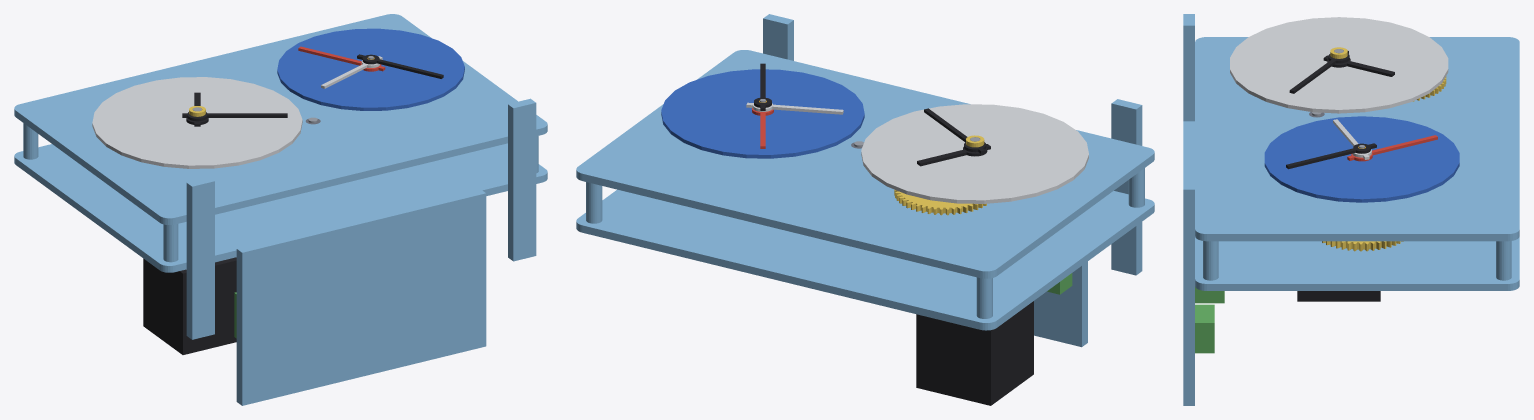
Rendered from test_rig.dae.
The picture shows the model from 3 angles, left to right: view 1: azimuth 30°, elevation 25°; view 2: azimuth 150°, elevation 25°; view 3: azimuth 270°, elevation 25°; orthographic projection. The views are drawn at different scales.
Visible parts, largest first — view 1: electronics_tray, front_plate, back_plate, dial_12h, dial_24h, motor_nema17, foot_0, foot_1, pillar_0, hand_minute, arm_shadow, pillar_1; view 2: front_plate, back_plate, dial_12h, dial_24h, motor_nema17, electronics_tray, foot_0, foot_1, minute_wheel_48_15, pillar_1, pillar_3, pillar_0 (+1 smaller); view 3: front_plate, dial_12h, back_plate, dial_24h, foot_1, electronics_tray, foot_0, buck_24_5, motor_nema17, pillar_3, pillar_2, shadow_wheel_48_C (+6 smaller).
Boxes of the visible parts, x1,y1,x2,y2 form: electronics_tray: [236, 189, 486, 405]; front_plate: [14, 14, 547, 224]; back_plate: [14, 143, 547, 272]; dial_12h: [92, 77, 302, 168]; dial_24h: [277, 28, 464, 110]; motor_nema17: [143, 257, 236, 354]; foot_0: [186, 177, 214, 339]; foot_1: [508, 98, 536, 261]; pillar_0: [163, 224, 178, 262]; hand_minute: [182, 112, 287, 121]; arm_shadow: [357, 54, 443, 78]; pillar_1: [23, 123, 38, 159]; front_plate: [576, 50, 1154, 278]; back_plate: [576, 189, 1154, 330]; dial_12h: [861, 104, 1088, 203]; dial_24h: [661, 69, 864, 158]; motor_nema17: [916, 301, 1033, 405]; electronics_tray: [1034, 261, 1087, 347]; foot_0: [1111, 99, 1142, 275]; foot_1: [763, 14, 793, 60]; minute_wheel_48_15: [894, 189, 986, 215]; pillar_1: [976, 277, 992, 318]; pillar_3: [586, 182, 602, 223]; pillar_0: [1128, 168, 1144, 207]; front_plate: [1195, 37, 1519, 241]; dial_12h: [1230, 17, 1448, 113]; back_plate: [1195, 236, 1519, 290]; dial_24h: [1264, 116, 1459, 202]; foot_1: [1183, 178, 1194, 349]; electronics_tray: [1183, 121, 1194, 405]; foot_0: [1183, 14, 1194, 121]; buck_24_5: [1195, 304, 1214, 353]; motor_nema17: [1297, 291, 1380, 301]; pillar_3: [1496, 241, 1511, 280]; pillar_2: [1203, 241, 1218, 280]; shadow_wheel_48_C: [1322, 241, 1403, 251].
Bounding box in the file's own units: 238 × 171 × 138.
